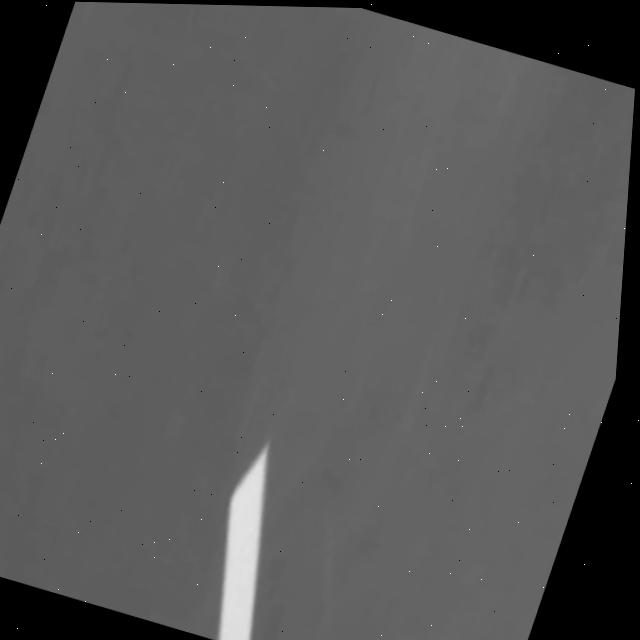center: (217, 443, 267, 640)
